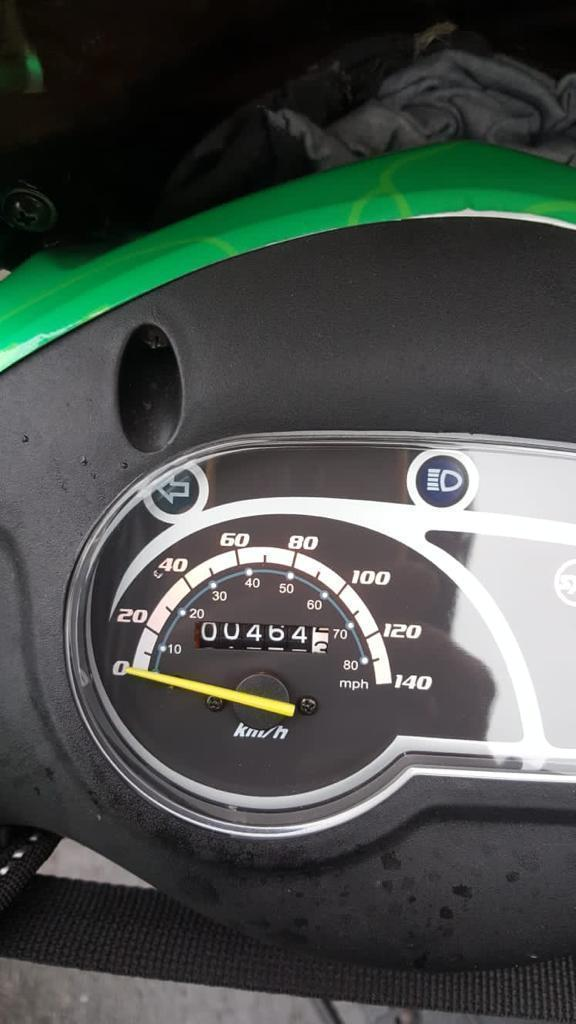0: (221, 619, 242, 640), (200, 621, 218, 642)
3: (312, 637, 329, 656)
4: (244, 622, 262, 643), (290, 623, 307, 645)
6: (267, 621, 286, 644)
7: (333, 627, 339, 639)
odometer: (191, 615, 340, 659)
